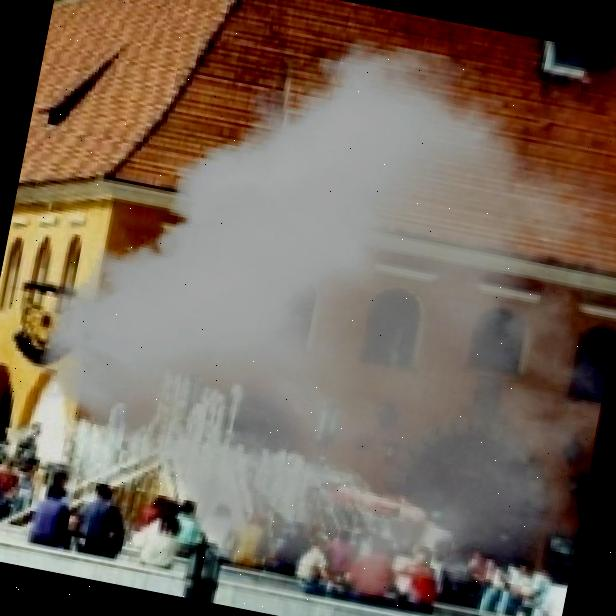smoke: (6, 0, 616, 616)
